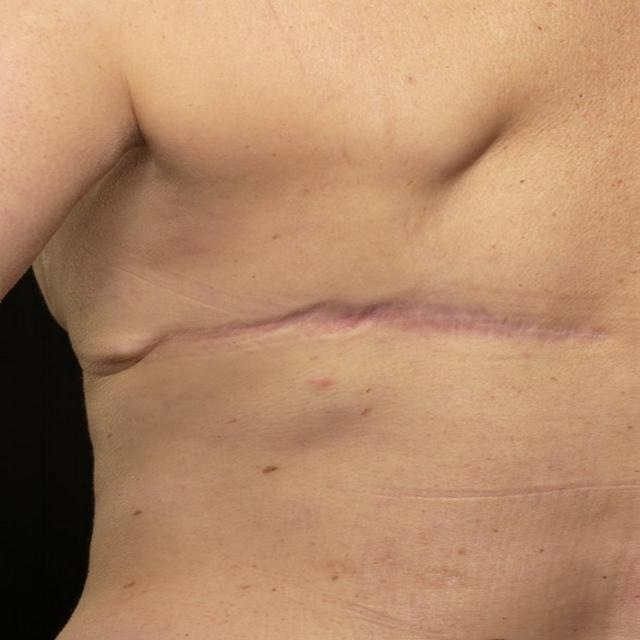wound: (129, 297, 614, 366)
